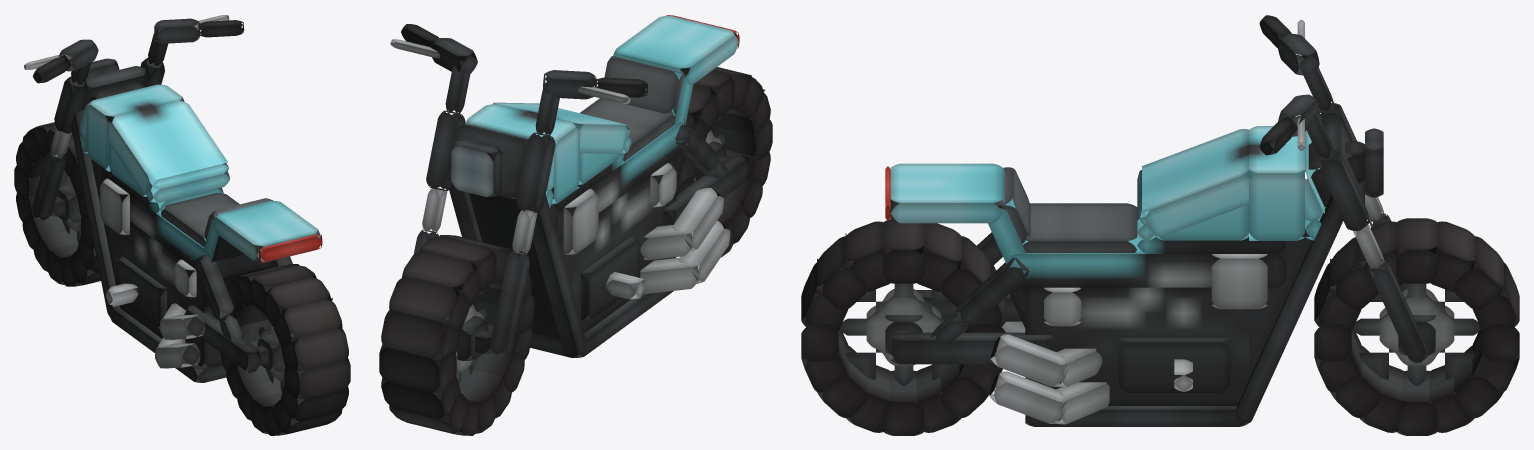
Rendered from bike.fbx.
3 renders of one model, left to right at view 1: azimuth 30°, elevation 25°; view 2: azimuth 150°, elevation 25°; view 3: azimuth 270°, elevation 25°, orthographic. The views are drawn at different scales.
Visible parts, largest first — view 1: 4e6ada40-f56a-2e4b-2626-bd3ffa85c34d, 3c00b280-fd09-4c87-aafc-14361c1fca5b, d267be6b-ba94-3407-1c89-5b0c970a3065, 288a47e0-7e83-1622-70b5-c797cb19fedd, c3097ba9-905a-741b-8f58-9122f79ceb59, 910b2f90-02c3-8346-e576-eae51cd7bff7, eae76488-26ce-2294-b7ae-856771a2d68d, 5bc69f33-534a-3037-1d48-98e08733bff8, 7ad3e296-01b1-08f9-b89a-822fba2a21b5, d65fe0d1-9e47-4ff1-10ce-1fcef8ccb966, f438cd7b-9563-e803-0820-34542080b6a0, 98589484-63b5-f007-b40a-c65ffe105e2a (+27 smaller); view 2: 3c00b280-fd09-4c87-aafc-14361c1fca5b, 4e6ada40-f56a-2e4b-2626-bd3ffa85c34d, 288a47e0-7e83-1622-70b5-c797cb19fedd, c3097ba9-905a-741b-8f58-9122f79ceb59, 5bc69f33-534a-3037-1d48-98e08733bff8, 7a0f29ff-1ff6-4ddb-8b1e-631a8af3b6d5, 910b2f90-02c3-8346-e576-eae51cd7bff7, eae76488-26ce-2294-b7ae-856771a2d68d, d65fe0d1-9e47-4ff1-10ce-1fcef8ccb966, 9732f688-6855-f3cf-fa93-fc8d21101df1, 9a93168c-bb77-5a64-dacf-b442f9366040, 3597fa01-03ba-01ad-7d17-adaaf529a779 (+29 smaller); view 3: 3c00b280-fd09-4c87-aafc-14361c1fca5b, 4e6ada40-f56a-2e4b-2626-bd3ffa85c34d, 288a47e0-7e83-1622-70b5-c797cb19fedd, d267be6b-ba94-3407-1c89-5b0c970a3065, eae76488-26ce-2294-b7ae-856771a2d68d, c3097ba9-905a-741b-8f58-9122f79ceb59, 052d331c-a40b-26f3-f49b-770fbec7e454, 910b2f90-02c3-8346-e576-eae51cd7bff7, 7ad3e296-01b1-08f9-b89a-822fba2a21b5, 250d9c9c-60ef-531a-c852-c82a02a7d63b, 95d456c6-1836-5c03-7c44-f176663680db, 98589484-63b5-f007-b40a-c65ffe105e2a (+23 smaller).
Part boxes in pixels (box(x1,y1,x2,y2)): 4e6ada40-f56a-2e4b-2626-bd3ffa85c34d: box(218, 264, 350, 435); 3c00b280-fd09-4c87-aafc-14361c1fca5b: box(14, 122, 100, 286); d267be6b-ba94-3407-1c89-5b0c970a3065: box(108, 101, 227, 194); 288a47e0-7e83-1622-70b5-c797cb19fedd: box(115, 221, 222, 367); c3097ba9-905a-741b-8f58-9122f79ceb59: box(213, 201, 320, 261); 910b2f90-02c3-8346-e576-eae51cd7bff7: box(86, 84, 184, 171); eae76488-26ce-2294-b7ae-856771a2d68d: box(100, 175, 271, 277); 5bc69f33-534a-3037-1d48-98e08733bff8: box(71, 109, 119, 318); 7ad3e296-01b1-08f9-b89a-822fba2a21b5: box(161, 193, 239, 246); d65fe0d1-9e47-4ff1-10ce-1fcef8ccb966: box(116, 256, 166, 328); f438cd7b-9563-e803-0820-34542080b6a0: box(184, 305, 261, 372); 98589484-63b5-f007-b40a-c65ffe105e2a: box(110, 308, 226, 382); 3c00b280-fd09-4c87-aafc-14361c1fca5b: box(379, 235, 534, 435); 4e6ada40-f56a-2e4b-2626-bd3ffa85c34d: box(676, 67, 772, 257); 288a47e0-7e83-1622-70b5-c797cb19fedd: box(532, 159, 676, 339); c3097ba9-905a-741b-8f58-9122f79ceb59: box(613, 15, 738, 85); 5bc69f33-534a-3037-1d48-98e08733bff8: box(528, 195, 586, 357); 7a0f29ff-1ff6-4ddb-8b1e-631a8af3b6d5: box(469, 187, 572, 337); 910b2f90-02c3-8346-e576-eae51cd7bff7: box(465, 104, 579, 204); eae76488-26ce-2294-b7ae-856771a2d68d: box(555, 119, 684, 241); d65fe0d1-9e47-4ff1-10ce-1fcef8ccb966: box(581, 235, 640, 320); 9732f688-6855-f3cf-fa93-fc8d21101df1: box(451, 140, 501, 196); 9a93168c-bb77-5a64-dacf-b442f9366040: box(604, 56, 685, 114); 3597fa01-03ba-01ad-7d17-adaaf529a779: box(490, 251, 529, 356); 3c00b280-fd09-4c87-aafc-14361c1fca5b: box(1314, 218, 1519, 435); 4e6ada40-f56a-2e4b-2626-bd3ffa85c34d: box(801, 219, 1006, 435); 288a47e0-7e83-1622-70b5-c797cb19fedd: box(1025, 287, 1248, 405); d267be6b-ba94-3407-1c89-5b0c970a3065: box(1142, 129, 1250, 236); eae76488-26ce-2294-b7ae-856771a2d68d: box(1006, 237, 1286, 287); c3097ba9-905a-741b-8f58-9122f79ceb59: box(890, 163, 1002, 223); 052d331c-a40b-26f3-f49b-770fbec7e454: box(1118, 338, 1230, 392); 910b2f90-02c3-8346-e576-eae51cd7bff7: box(1249, 126, 1304, 240); 7ad3e296-01b1-08f9-b89a-822fba2a21b5: box(1022, 203, 1137, 252); 250d9c9c-60ef-531a-c852-c82a02a7d63b: box(1235, 195, 1343, 423); 95d456c6-1836-5c03-7c44-f176663680db: box(891, 332, 1052, 364); 98589484-63b5-f007-b40a-c65ffe105e2a: box(1025, 406, 1248, 426).
Bounding box in the file's own units: 102 × 128 × 241.
